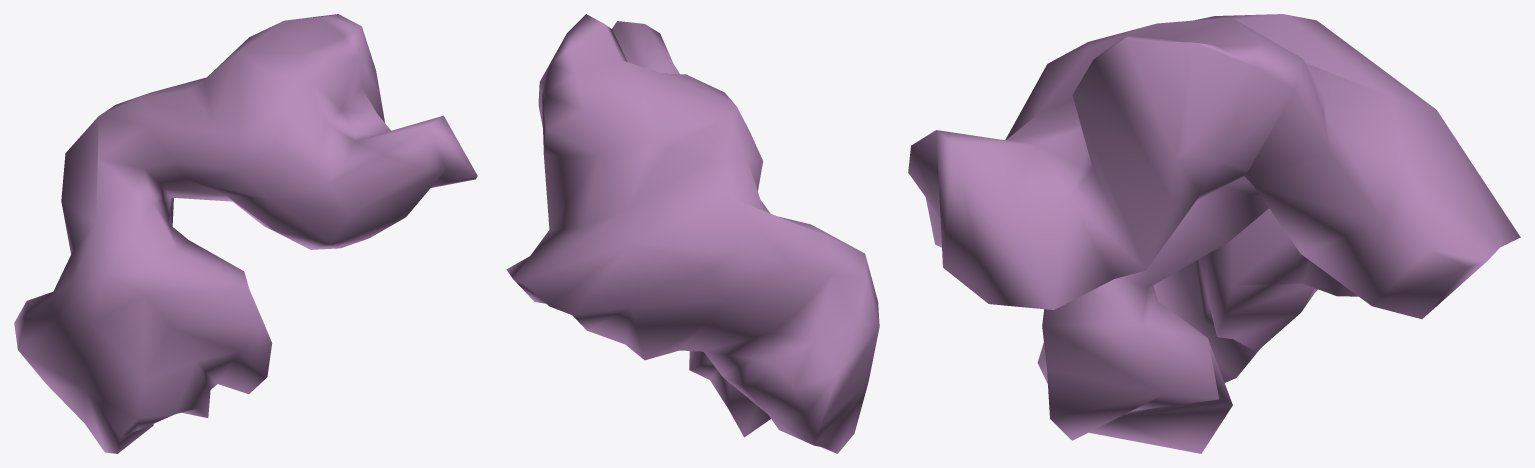
The picture shows the model from 3 angles, left to right: view 1: azimuth 30°, elevation 25°; view 2: azimuth 150°, elevation 25°; view 3: azimuth 270°, elevation 25°; orthographic projection. The views are drawn at different scales.
Visible parts, largest first — view 1: 左侧外侧沟后支; view 2: 左侧外侧沟后支; view 3: 左侧外侧沟后支.
Part boxes in pixels (x1=…): 左侧外侧沟后支: x1=14, y1=14, x2=477, y2=453; 左侧外侧沟后支: x1=506, y1=14, x2=879, y2=453; 左侧外侧沟后支: x1=908, y1=14, x2=1520, y2=453.
Bounding box in the file's own units: 0.0362 × 0.0347 × 0.034.
